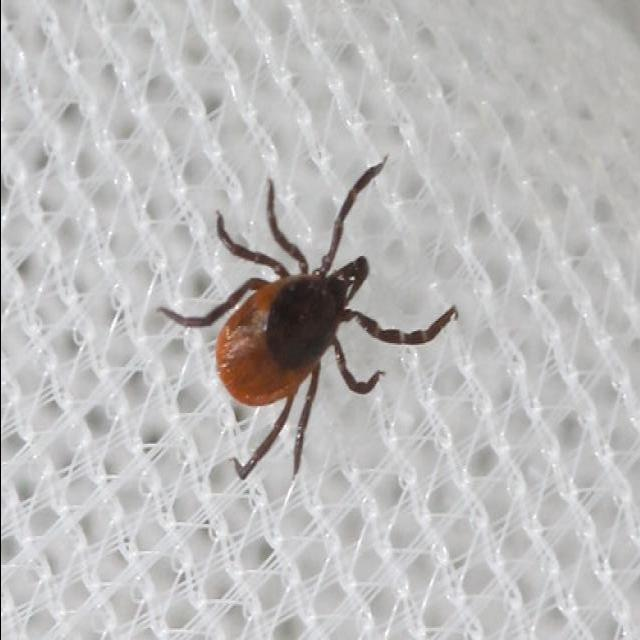Ixodes Ricinus-F: (159, 155, 457, 480)
